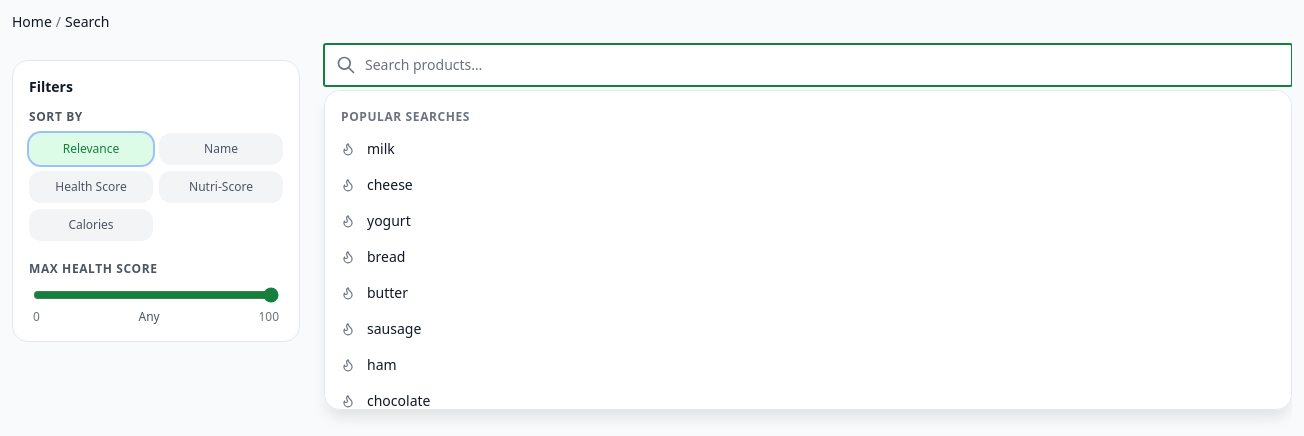
SearchPage › shows error state when search fails
Type "chips" into the dropdown with placeholder "Search products…" at coordinates (808, 65), box [324,44,1292,86]
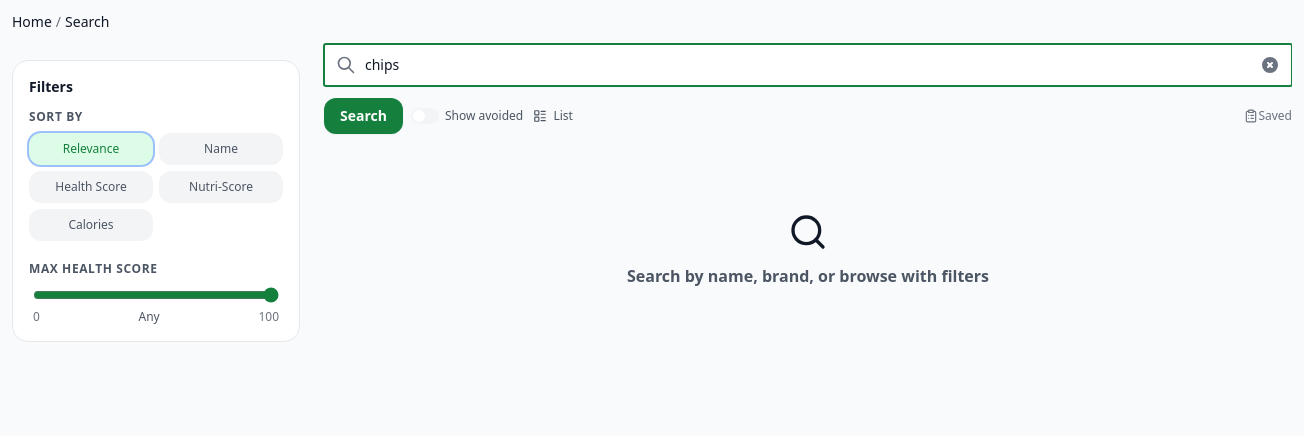
Click the button "Search" at coordinates (363, 116), box [324,98,403,134]
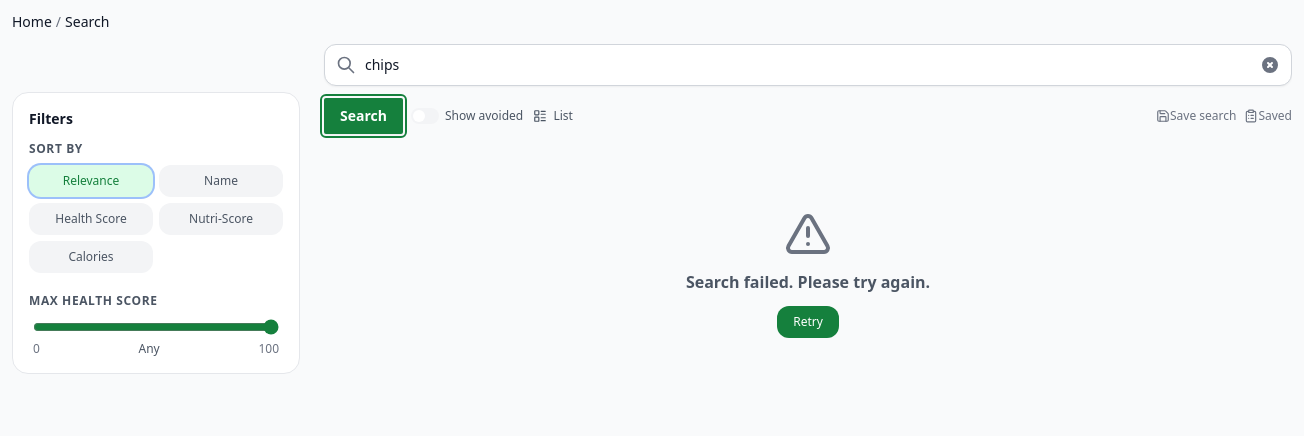
Now the heading "Search failed. Please try again." is shown, box [686,270,930,294]
